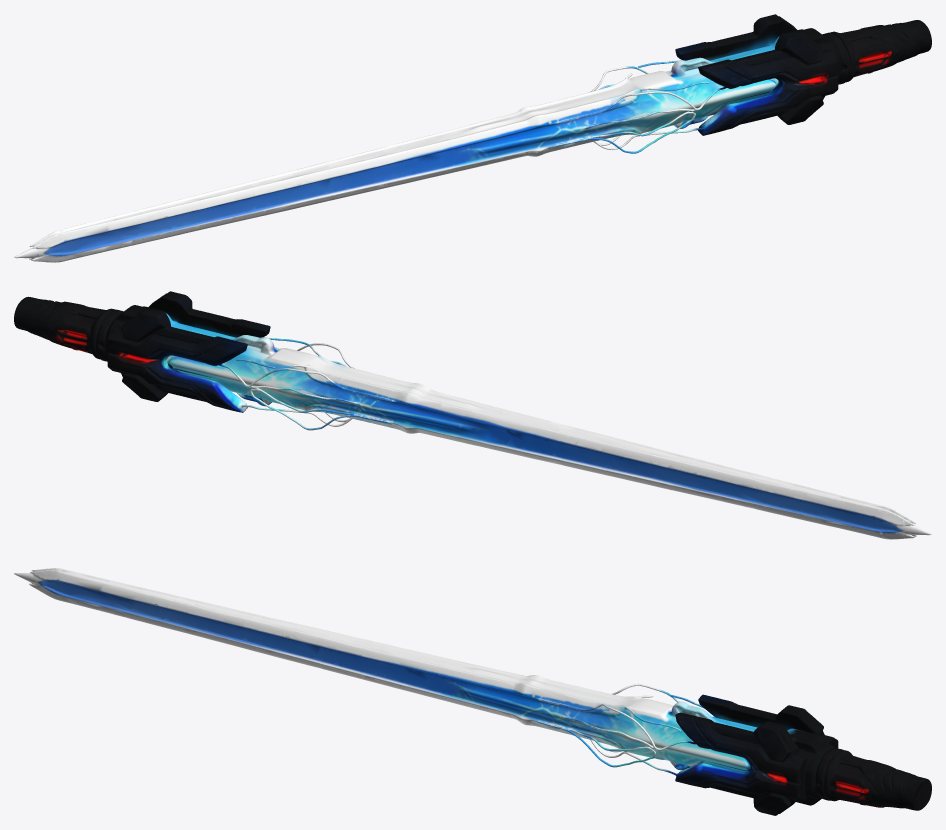
Rendered from 激光剑.glb.
The picture shows the model from 3 angles, top to bottom: view 1: azimuth 30°, elevation 25°; view 2: azimuth 150°, elevation 25°; view 3: azimuth 330°, elevation 25°; orthographic projection.
Visible parts, largest first — view 1: node_0; view 2: node_0; view 3: node_0.
Boxes of the visible parts, x1=… form: node_0: x1=14, y1=14, x2=931, y2=262; node_0: x1=14, y1=291, x2=931, y2=539; node_0: x1=14, y1=568, x2=931, y2=815.
Bounding box in the file's own units: 1.2 × 0.1094 × 0.095.
Materials: 1 (1 with a texture image).
